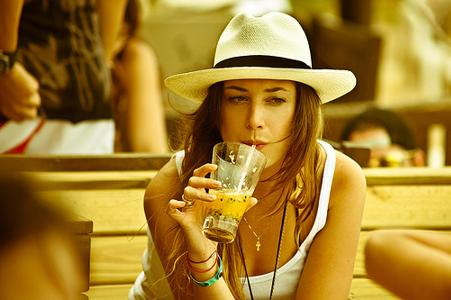person: (125, 10, 368, 300)
